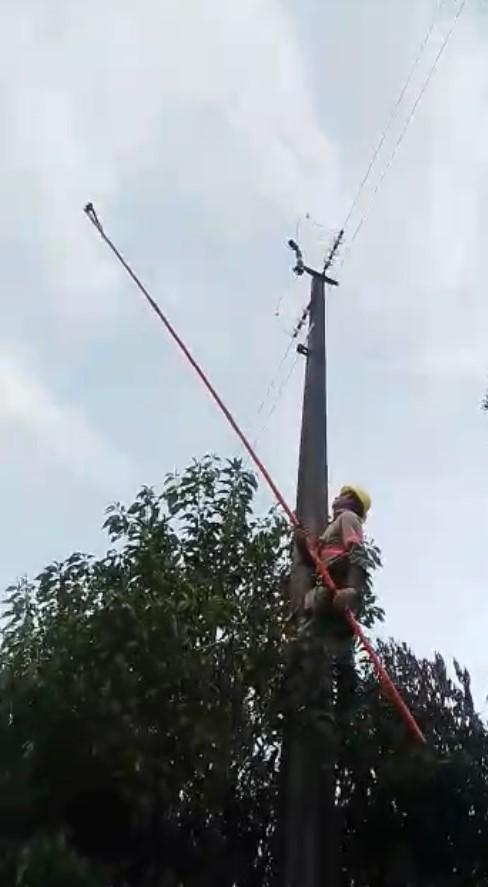Vara_Manobra: (80, 203, 426, 742)
